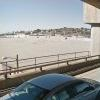Car: (6, 65, 99, 100)
